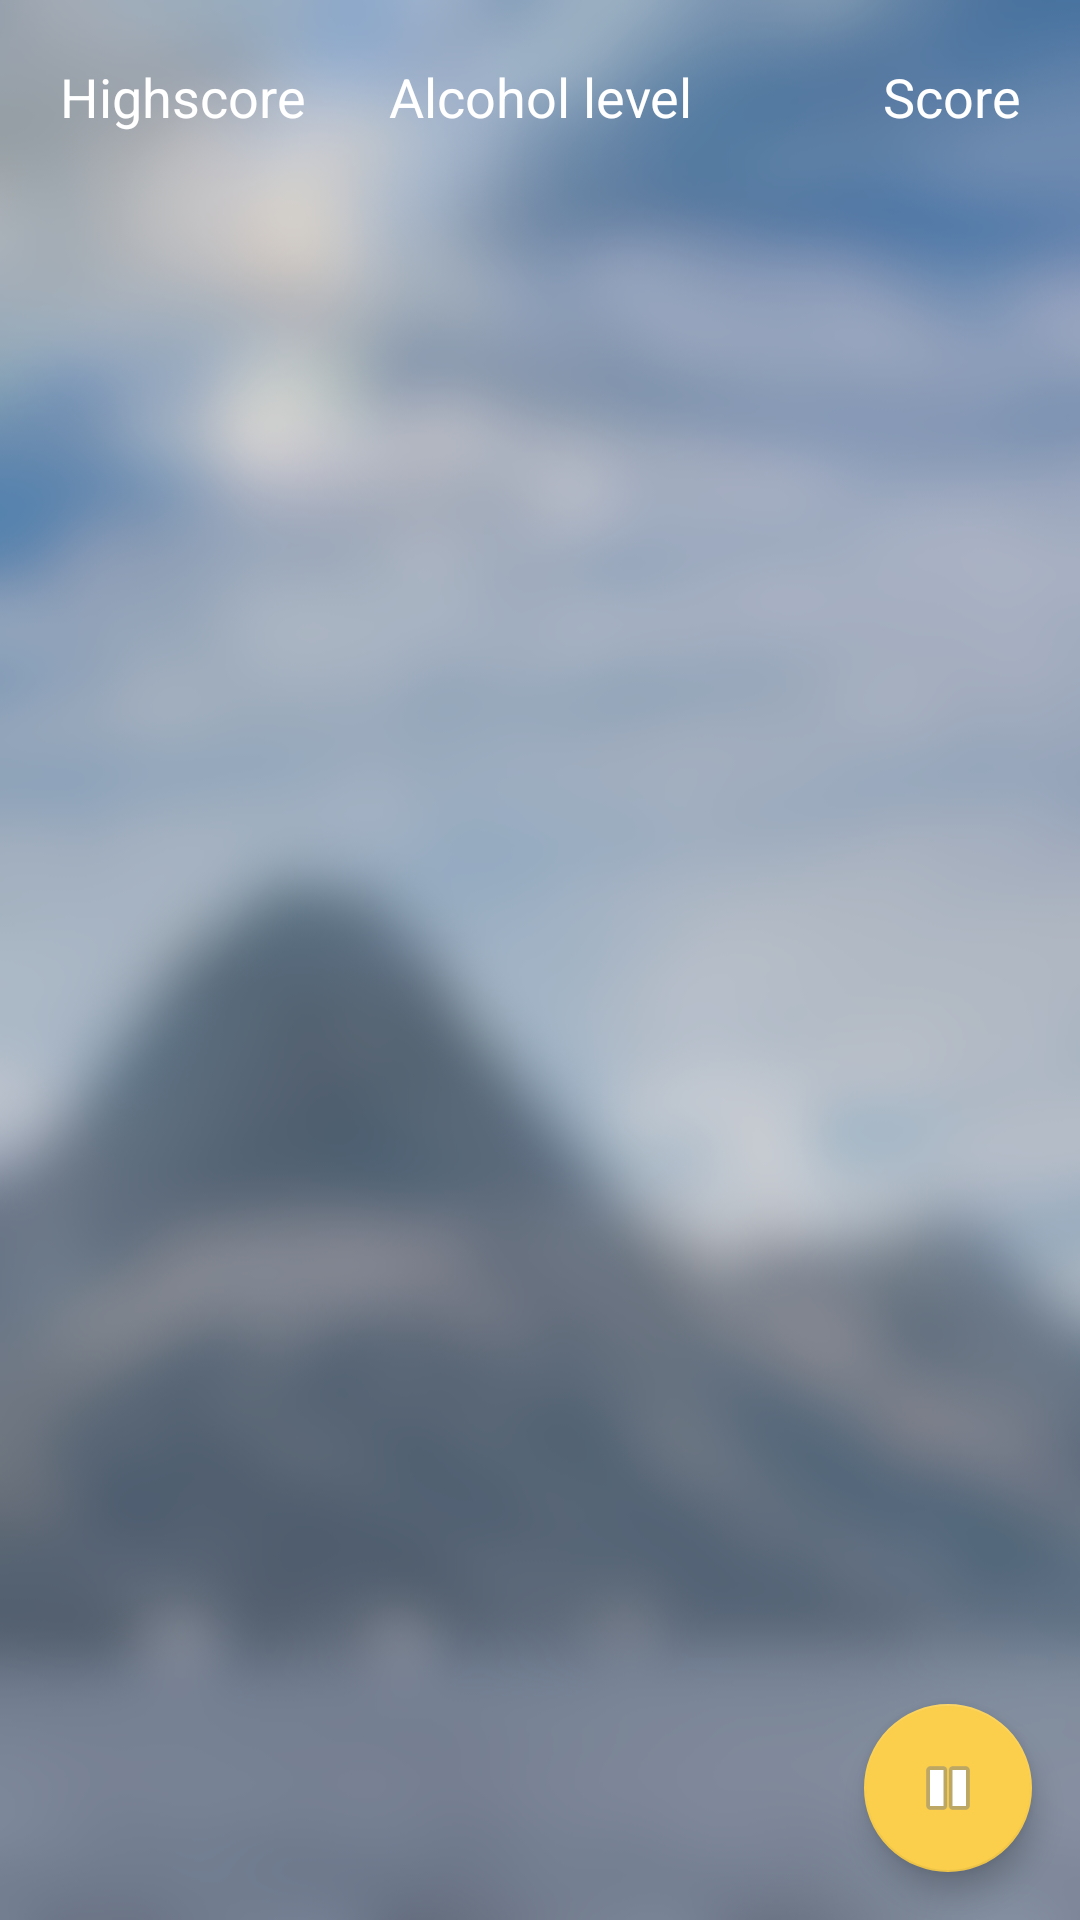

Screen size 1080 × 1920. Icon name, then its box in pixels as bbox(x1, y1, x2, y2):
Pause: bbox(864, 1704, 1032, 1872)
